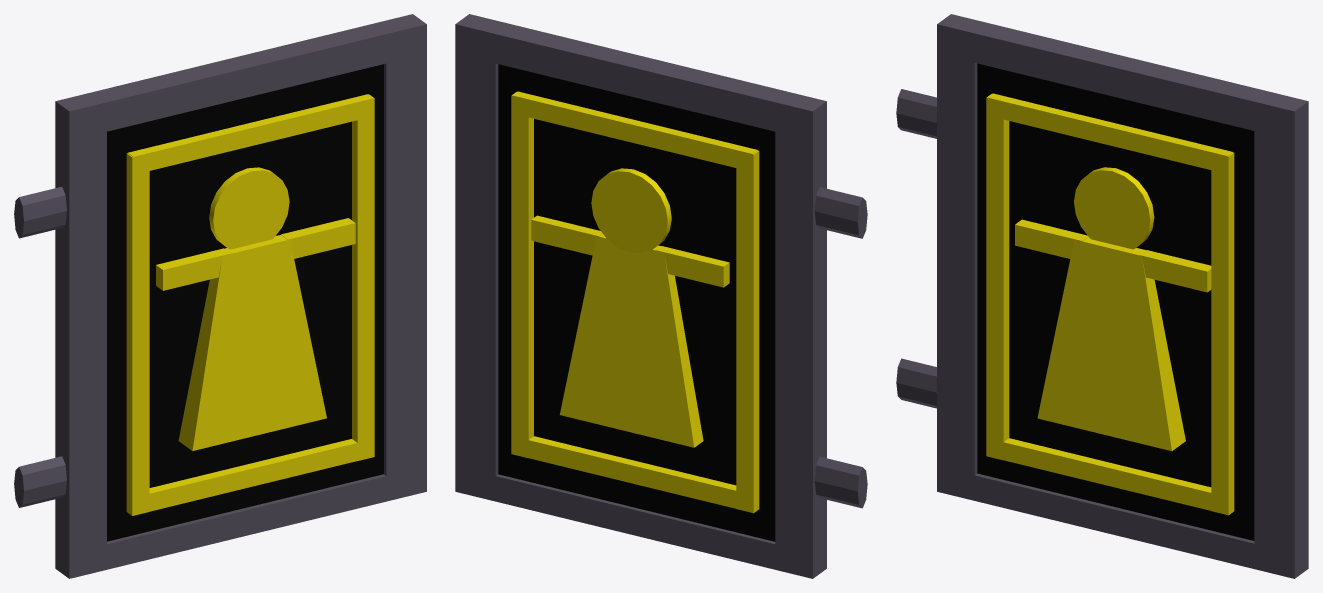
File: Neon_person_ver2_large.fbx
3 views of the same model, side by side, from view 1: azimuth 30°, elevation 25°; view 2: azimuth 150°, elevation 25°; view 3: azimuth 330°, elevation 25° (orthographic).
Visible parts, largest first — view 1: NeonSign_Large7, Neon_person_ver2_large; view 2: NeonSign_Large7, Neon_person_ver2_large; view 3: NeonSign_Large7, Neon_person_ver2_large.
Part boxes in pixels (x1,y1,x2,y2): NeonSign_Large7: [14, 14, 426, 578]; Neon_person_ver2_large: [126, 94, 374, 515]; NeonSign_Large7: [455, 14, 867, 578]; Neon_person_ver2_large: [511, 91, 759, 513]; NeonSign_Large7: [896, 14, 1308, 578]; Neon_person_ver2_large: [986, 93, 1234, 515].
Bounding box in the file's own units: 3.31 × 3.69 × 0.4617.
